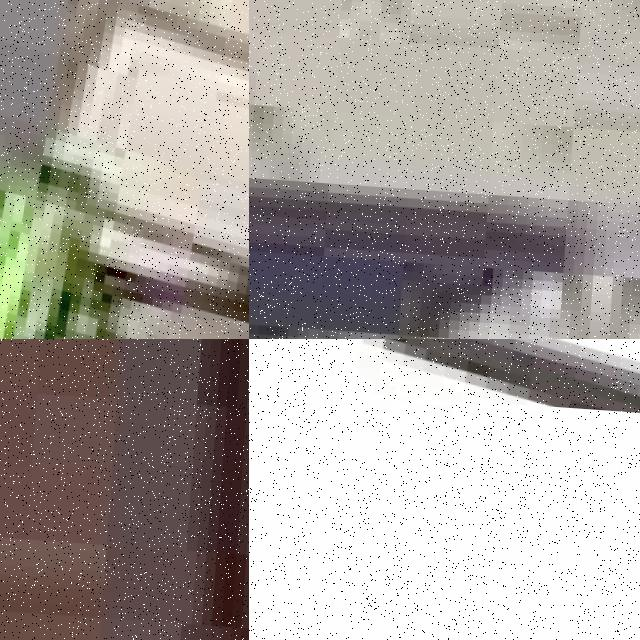0: (0, 0, 249, 339)
drone: (249, 339, 640, 426)
